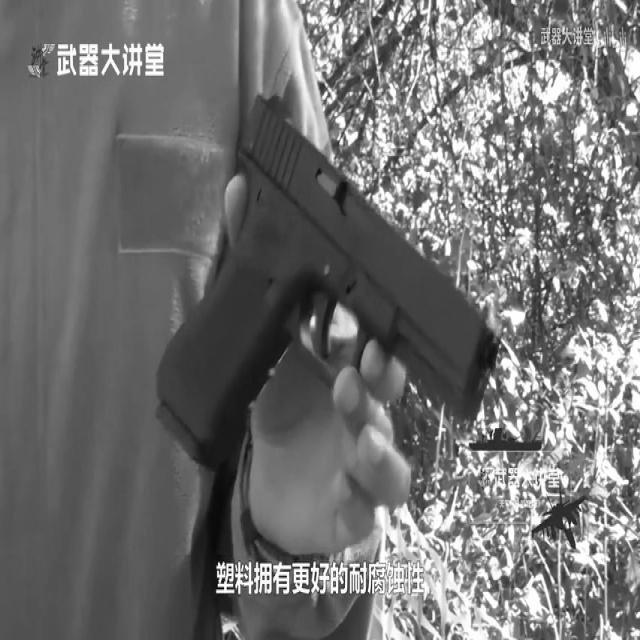Hand-Gun: (139, 36, 526, 574)
